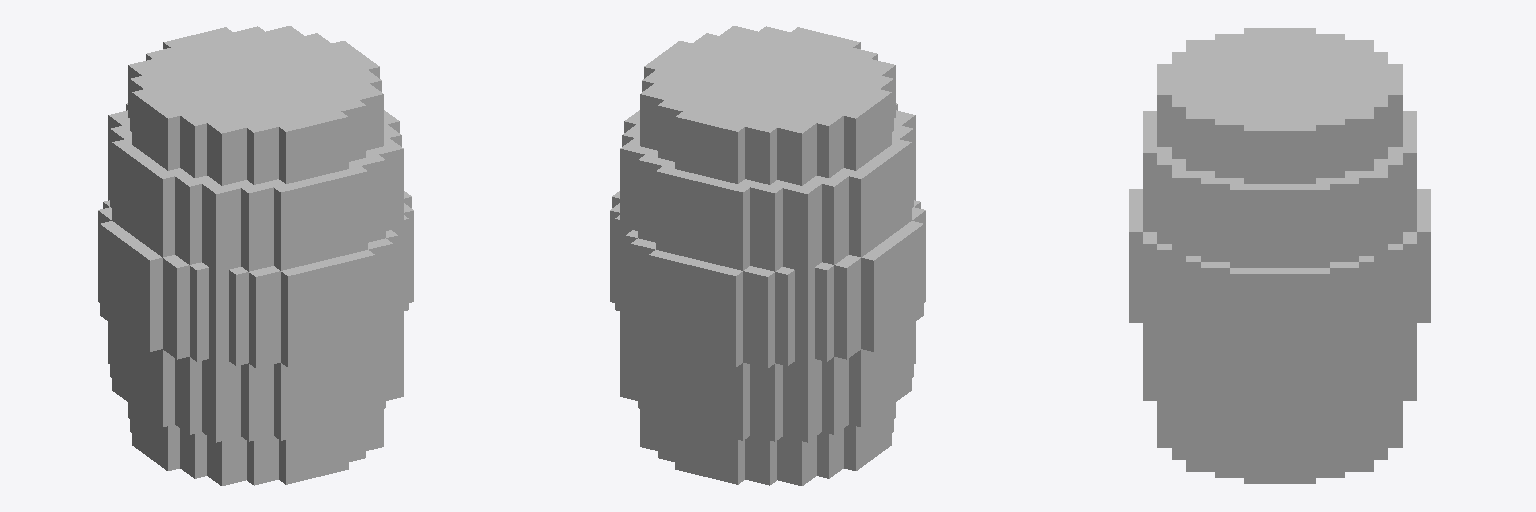
File: barrel.obj
The picture shows the model from 3 angles: view 1: azimuth 30°, elevation 25°; view 2: azimuth 150°, elevation 25°; view 3: azimuth 270°, elevation 25°; orthographic projection.
Bounding box in the file's own units: 21 × 27 × 21.